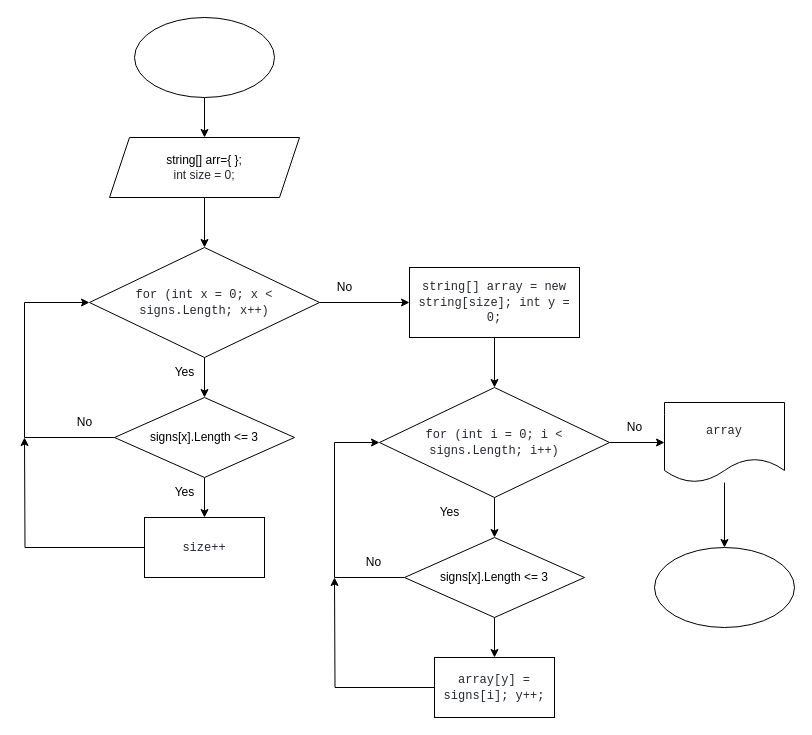
Image size: 812x735. Some labels were removed from this diagram. Here are the shapes that lost their labels. From the top down, the centre of each, then its label:
At point 204,57: "Start".
At point 724,587: "End".
